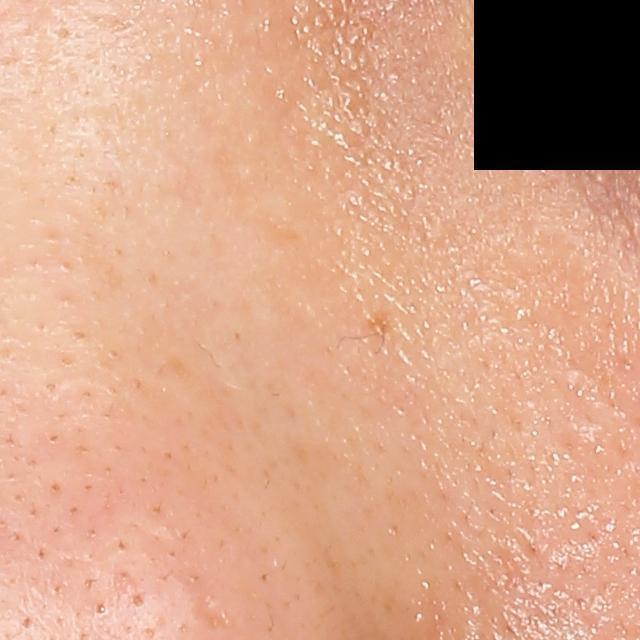atrophic_scar: (193, 594, 232, 634)
comedo: (91, 599, 112, 620)
